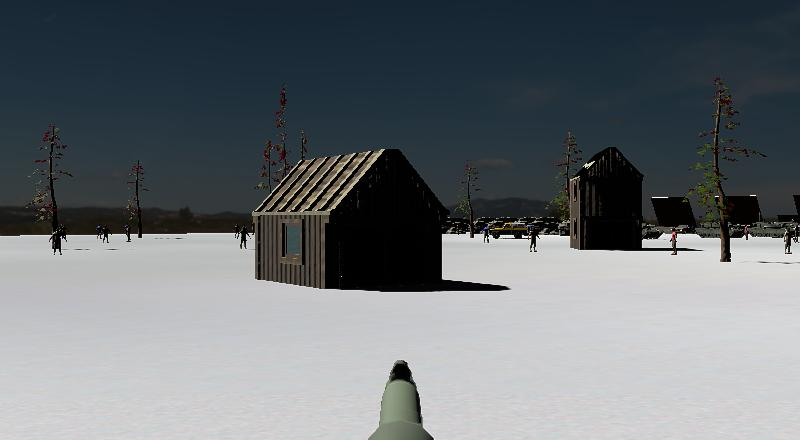House: (236, 135, 469, 316), (558, 133, 662, 268)
Human: (44, 223, 73, 262), (663, 225, 683, 261), (778, 224, 797, 261), (121, 219, 137, 248)
car: (490, 216, 545, 242)
